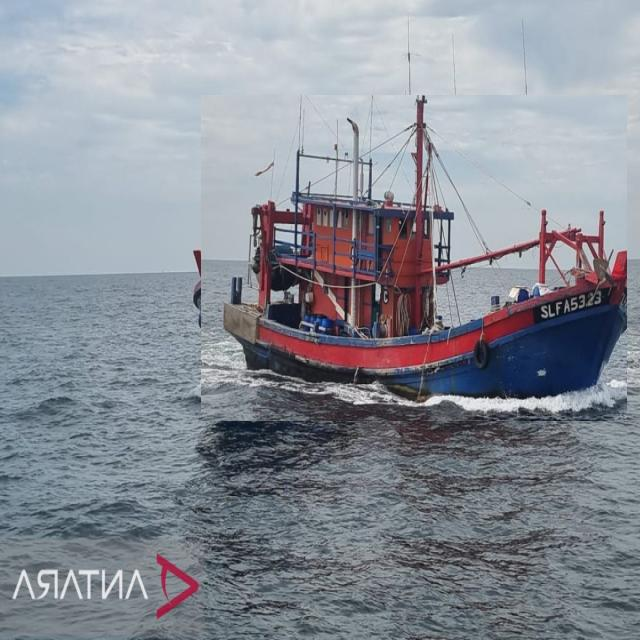Fishing Boat: (201, 95, 627, 421)
